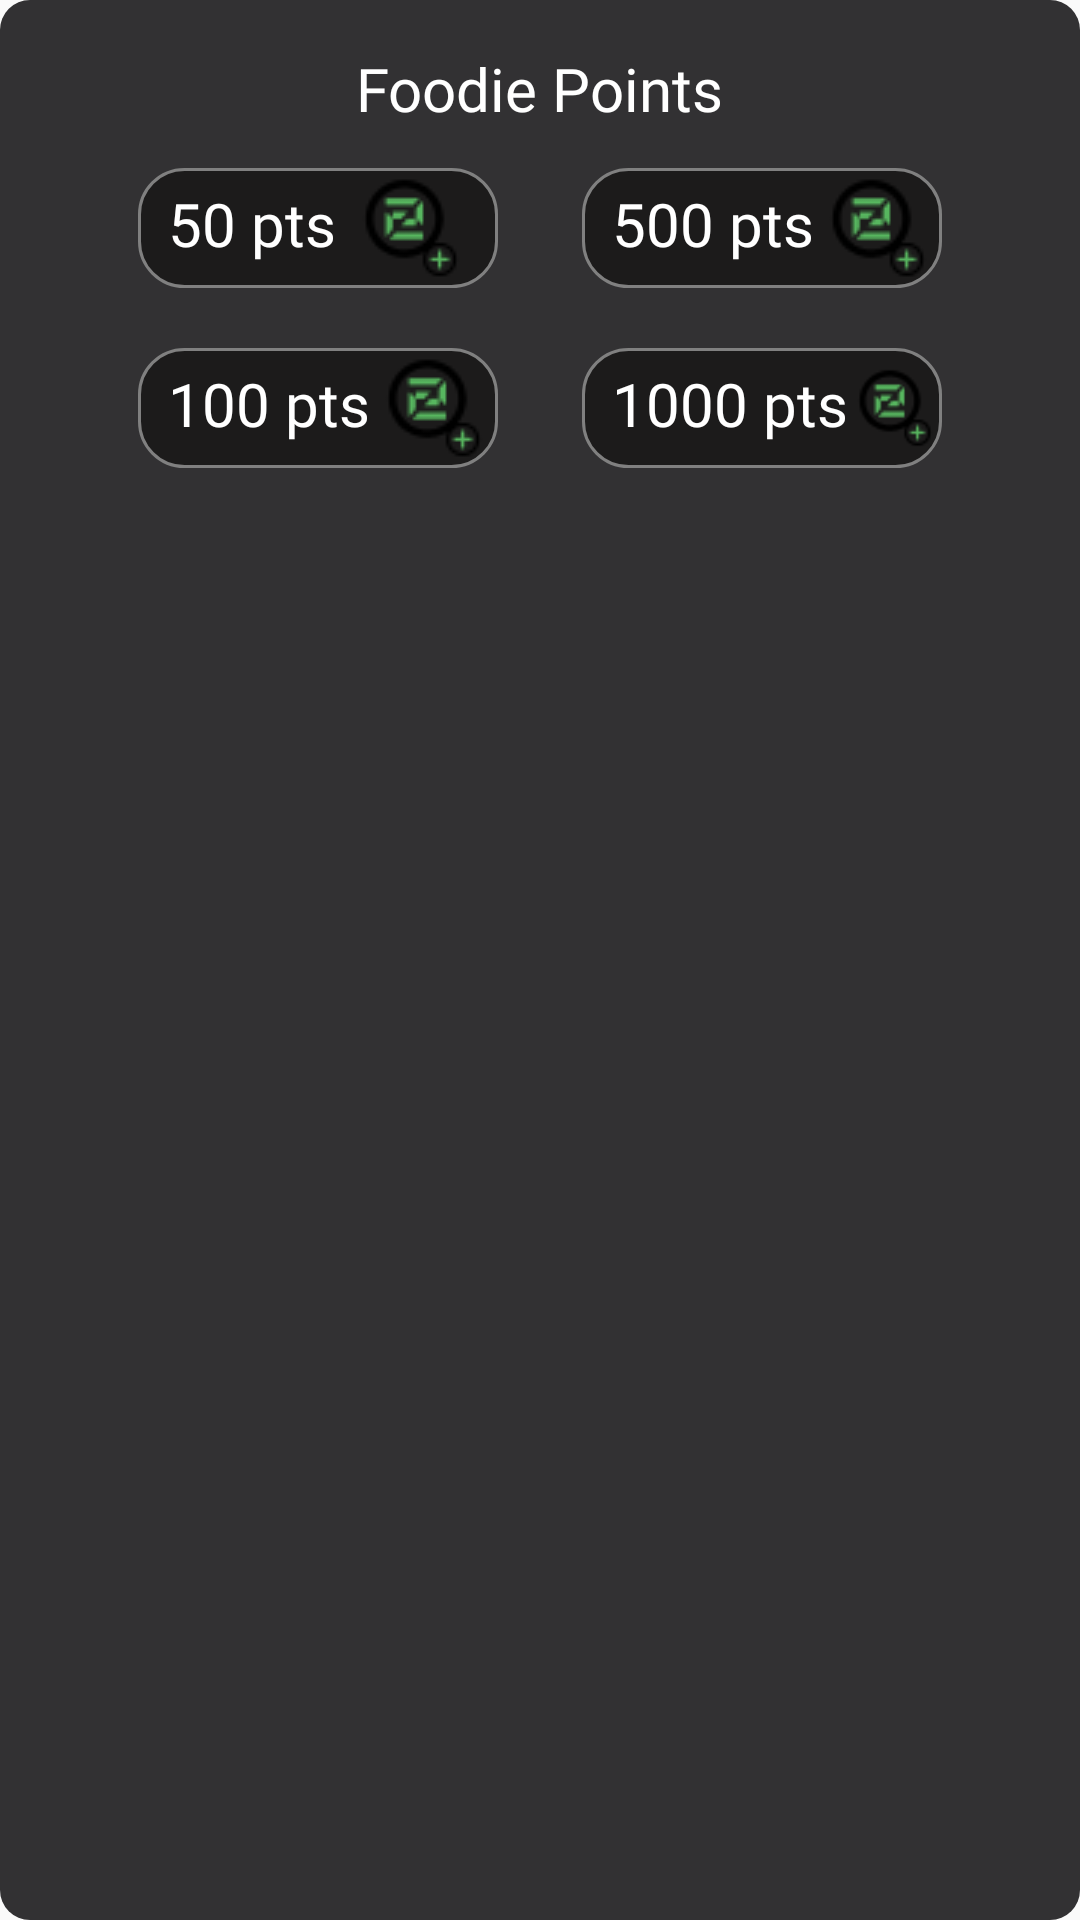

Where to tap for icons on this 1080×1920 app screen, as point (x, y):
recharge: point (411, 228), point (878, 228), point (434, 408), point (895, 408)
